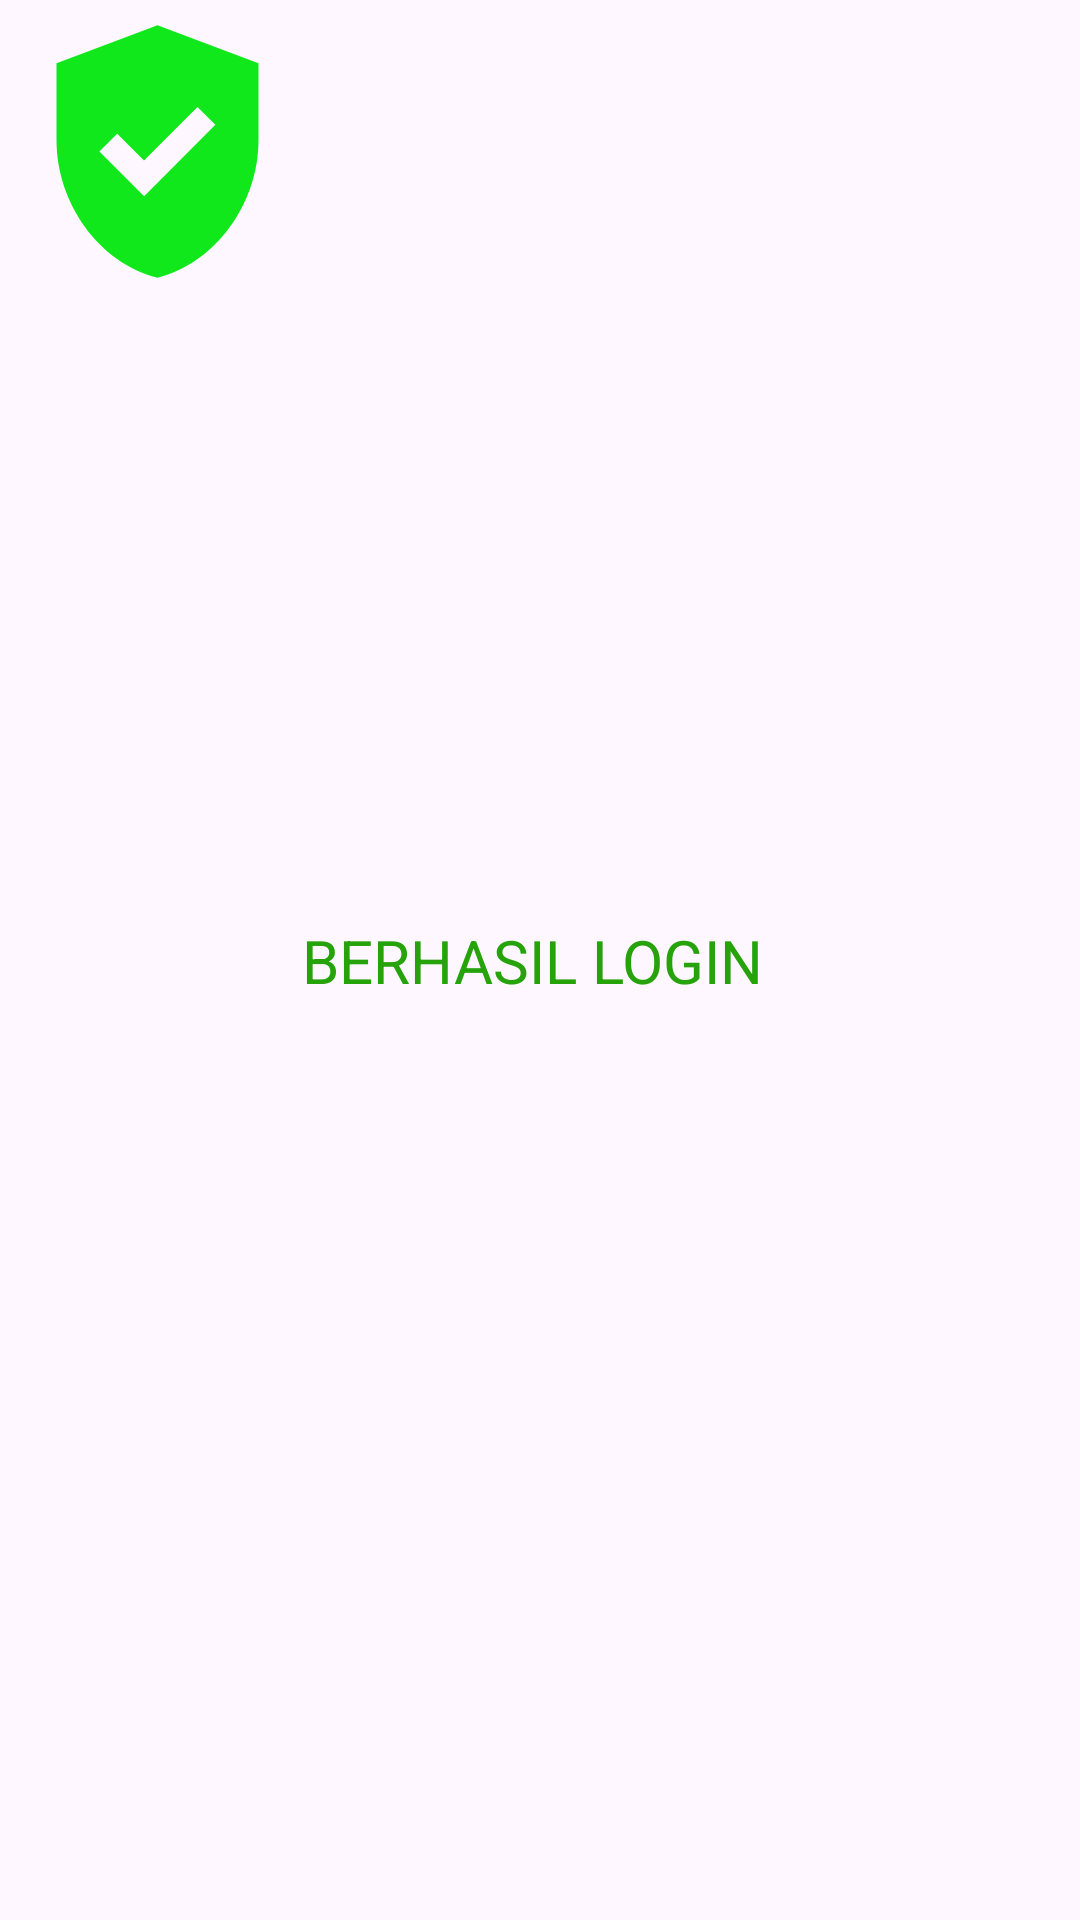

Icon bounding boxes for this 1080*1920 phone screenshot, format (x1, y1, x2, y2):
gpp good: (56, 25, 259, 278)
